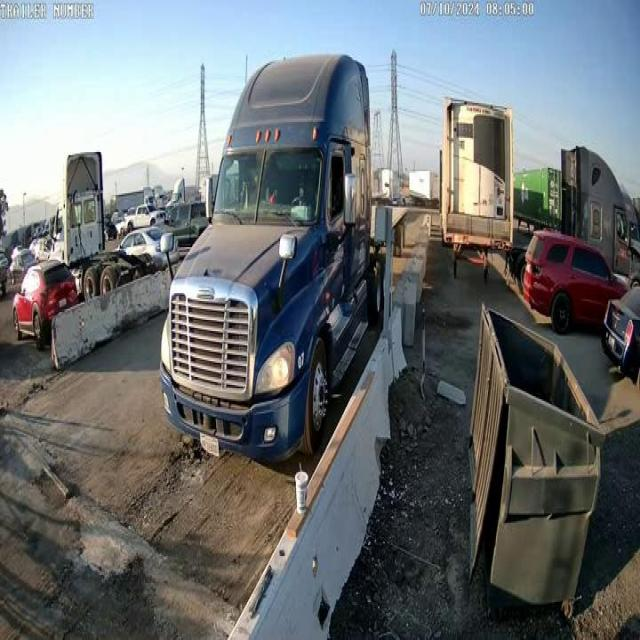BOBTAIL: (158, 51, 410, 465)
